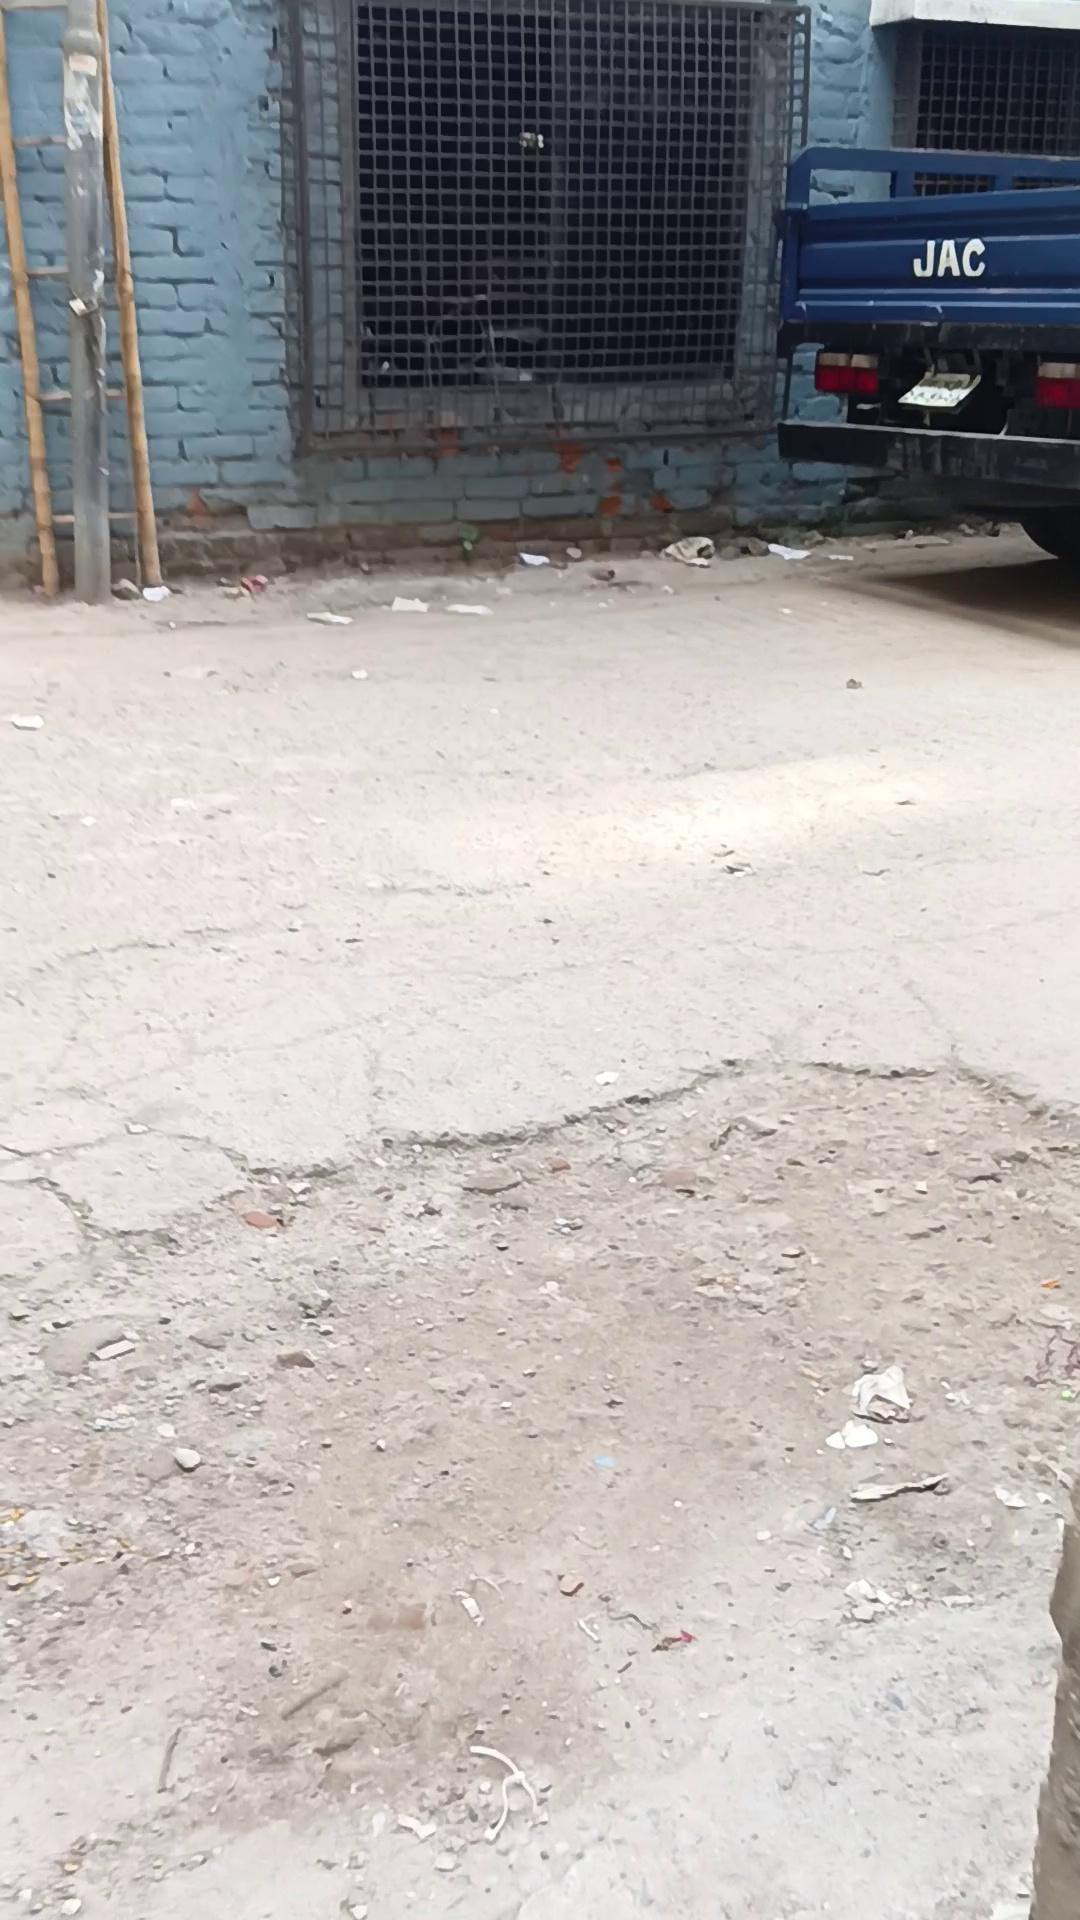Broken-road: (0, 576, 1080, 1899)
Crosswalk: (1026, 1481, 1077, 1916)
Motorcycle: (7, 0, 160, 603)
Traffic-sign: (769, 141, 1079, 566)
Tree: (20, 0, 1047, 582)
